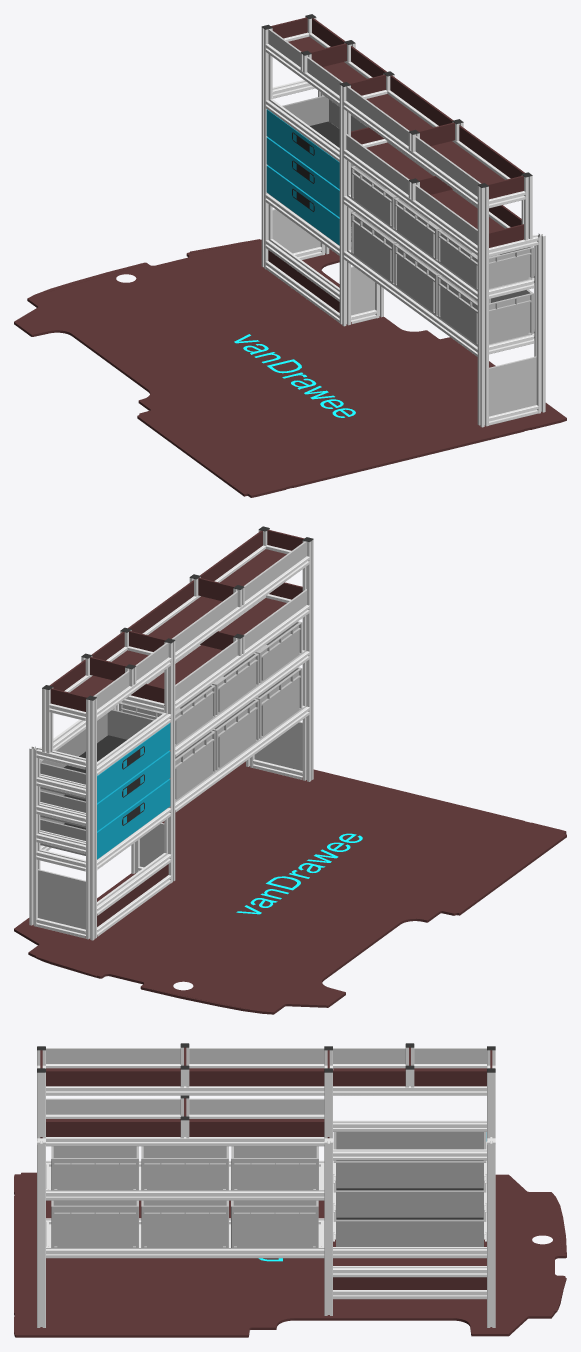
File: vd_export_regalova_vestavba_ford_transit_custom_l1_efe9641b.glb
The picture shows the model from 3 angles, top to bottom: view 1: azimuth 30°, elevation 25°; view 2: azimuth 150°, elevation 25°; view 3: azimuth 270°, elevation 25°; orthographic projection. The views are drawn at different scales.
Visible parts, largest first — view 1: SomeName041_Mesh_14015, dark_grey_bin (×2), SL40x40x1267_Zx2_2 (×7), 40x40x1250_noha (×3), drawer (×3), PR10_1266x220 (×3), CUB10_292x260 (×2), SL40x40x1267_Zx2 (×3), CUB10_635x89_2 (×2), CUB10_635x89 (×2), 40x40x920_noha, Suplikocel20kg130780349 (+7 smaller); view 2: SomeName041_Mesh_14015, dark_grey_bin (×2), SL40x40x1267_Zx2_2 (×7), 40x40x1250_noha (×3), drawer (×3), PR10_1266x220 (×3), Suplikocel20kg130780349 (×3), CUB10_292x260 (×2), SL40x40x1267_Zx2 (×3), CUB10_635x89 (×2), CUB10_635x89_2 (×2), 40x40x920_noha (+8 smaller); view 3: SomeName041_Mesh_14015, dark_grey_bin (×2), SL40x40x1267_Zx2 (×7), Suplikocel20kg130780349 (×3), SL40x40x1267_Zx2_2 (×6), PR10_635x89_2 (×3), PR10_635x89 (×3), CUB10_635x89 (×3), CUB10_635x89_2 (×3), 40x40x920_noha (×2), PR10_1289x89, 40x40x330_Zx1_noha (×3) (+4 smaller).
Part boxes in pixels (left/top/right/bottom): SomeName041_Mesh_14015: left=14, top=239, right=566, bottom=497; dark_grey_bin (×2): left=351, top=166, right=533, bottom=344; SL40x40x1267_Zx2_2 (×7): left=265, top=44, right=477, bottom=356; 40x40x1250_noha (×3): left=261, top=27, right=488, bottom=427; drawer (×3): left=266, top=109, right=339, bottom=245; PR10_1266x220 (×3): left=288, top=36, right=504, bottom=232; CUB10_292x260 (×2): left=272, top=209, right=536, bottom=416; SL40x40x1267_Zx2 (×3): left=265, top=90, right=510, bottom=301; CUB10_635x89_2 (×2): left=415, top=136, right=481, bottom=245; CUB10_635x89 (×2): left=346, top=86, right=409, bottom=194; 40x40x920_noha: left=534, top=233, right=545, bottom=413; Suplikocel20kg130780349: left=282, top=95, right=366, bottom=166; SomeName041_Mesh_14015: left=14, top=761, right=566, bottom=1014; dark_grey_bin (×2): left=119, top=621, right=302, bottom=800; SL40x40x1267_Zx2_2 (×7): left=97, top=556, right=309, bottom=936; 40x40x1250_noha (×3): left=86, top=539, right=313, bottom=940; drawer (×3): left=97, top=723, right=170, bottom=859; PR10_1266x220 (×3): left=70, top=549, right=286, bottom=696; Suplikocel20kg130780349 (×3): left=40, top=709, right=154, bottom=855; CUB10_292x260 (×2): left=38, top=721, right=302, bottom=929; SL40x40x1267_Zx2 (×3): left=97, top=545, right=309, bottom=915; CUB10_635x89 (×2): left=172, top=591, right=237, bottom=700; CUB10_635x89_2 (×2): left=244, top=541, right=306, bottom=649; 40x40x920_noha: left=29, top=746, right=40, bottom=926; SomeName041_Mesh_14015: left=14, top=1172, right=566, bottom=1337; dark_grey_bin (×2): left=51, top=1146, right=318, bottom=1247; SL40x40x1267_Zx2 (×7): left=46, top=1086, right=486, bottom=1277; Suplikocel20kg130780349 (×3): left=333, top=1132, right=486, bottom=1246; SL40x40x1267_Zx2_2 (×6): left=46, top=1064, right=486, bottom=1299; PR10_635x89_2 (×3): left=189, top=1070, right=486, bottom=1136; PR10_635x89 (×3): left=46, top=1070, right=405, bottom=1136; CUB10_635x89 (×3): left=189, top=1048, right=486, bottom=1114; CUB10_635x89_2 (×3): left=46, top=1048, right=405, bottom=1114; 40x40x920_noha (×2): left=37, top=1142, right=495, bottom=1327; PR10_1289x89: left=333, top=1277, right=486, bottom=1289; 40x40x330_Zx1_noha (×3): left=37, top=1072, right=495, bottom=1138.
Size of the model in its own units: 1751 by 1286 by 2516.
